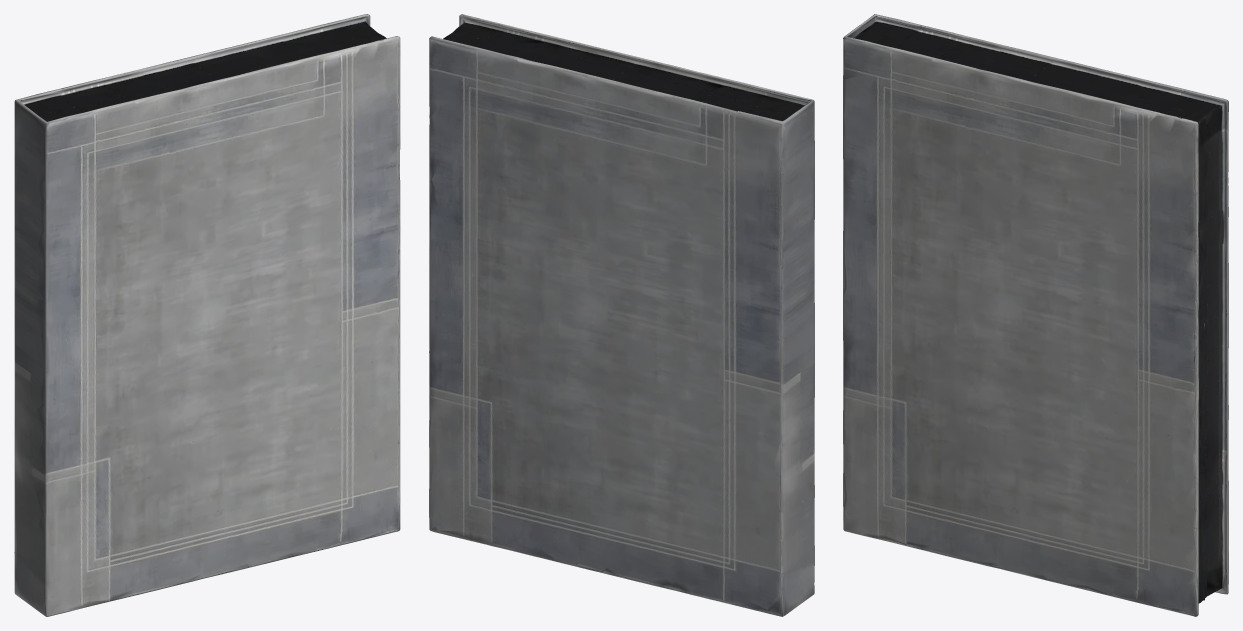
Rendered from Bedroom Area Rug.glb.
The picture shows the model from 3 angles, left to right: view 1: azimuth 30°, elevation 25°; view 2: azimuth 150°, elevation 25°; view 3: azimuth 330°, elevation 25°; orthographic projection.
Visible parts, largest first — view 1: Mesh_0.002; view 2: Mesh_0.002; view 3: Mesh_0.002.
Boxes of the visible parts, x1,y1,x2,y2 form: Mesh_0.002: (14,14,400,616); Mesh_0.002: (429,14,814,616); Mesh_0.002: (843,14,1228,616).
Bounding box in the file's own units: 0.676 × 0.8999 × 0.1069.
Materials: 1 (1 with a texture image).
